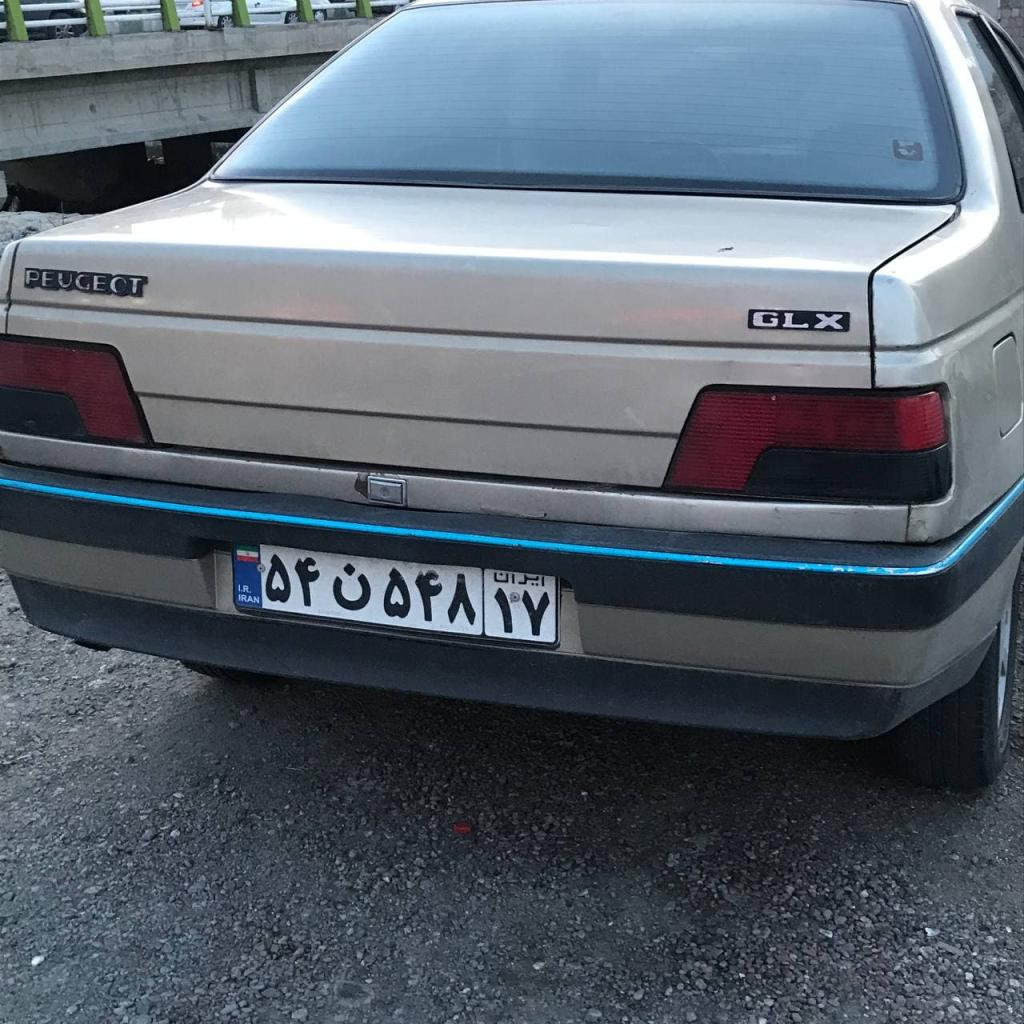Plates: (231, 543, 556, 643)
